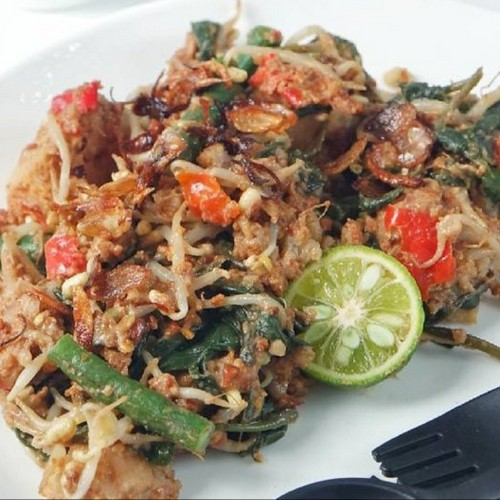tipat cantok: (6, 50, 478, 435)
